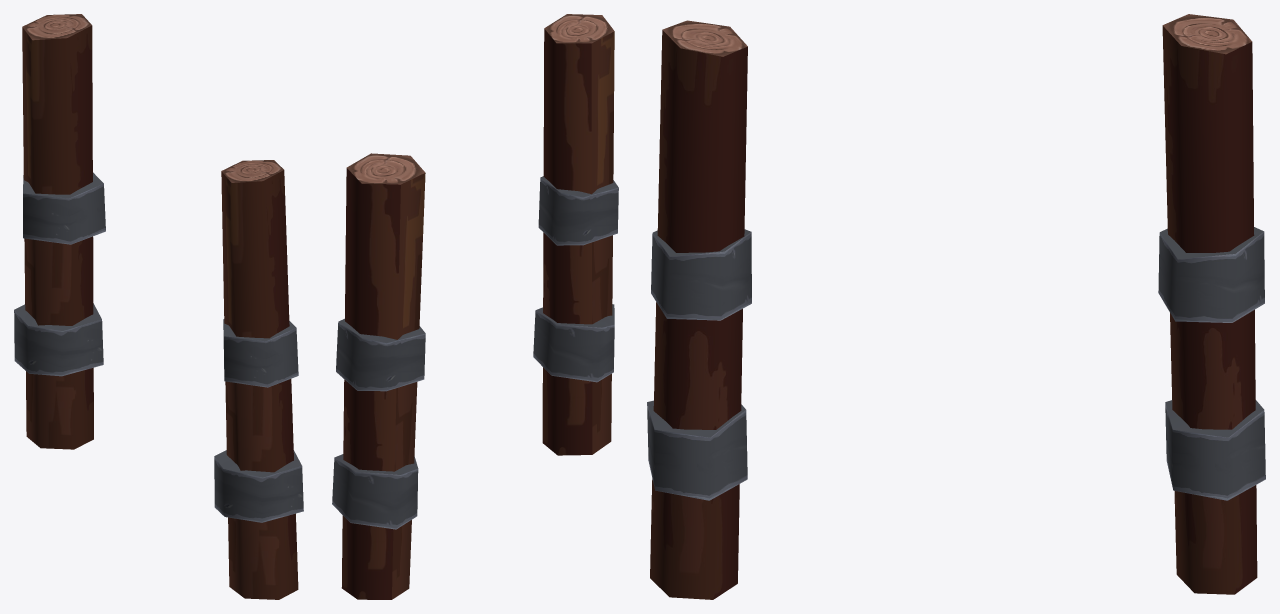
Rendered from SM_PROP_wall_wood_gate_frame_02.glb.
The picture shows the model from 3 angles, left to right: view 1: azimuth 30°, elevation 25°; view 2: azimuth 150°, elevation 25°; view 3: azimuth 270°, elevation 25°; orthographic projection. The views are drawn at different scales.
Visible parts, largest first — view 1: SM_PROP_wall_wood_gate_frame_02_EXPORT; view 2: SM_PROP_wall_wood_gate_frame_02_EXPORT; view 3: SM_PROP_wall_wood_gate_frame_02_EXPORT.
Boxes of the visible parts, x1,y1,x2,y2 form: SM_PROP_wall_wood_gate_frame_02_EXPORT: (14,14,303,599); SM_PROP_wall_wood_gate_frame_02_EXPORT: (332,14,618,599); SM_PROP_wall_wood_gate_frame_02_EXPORT: (647,14,1265,599).
Size of the model in its own units: 1.21 by 5.92 by 6.06.
Materials: 3 (3 with a texture image).
